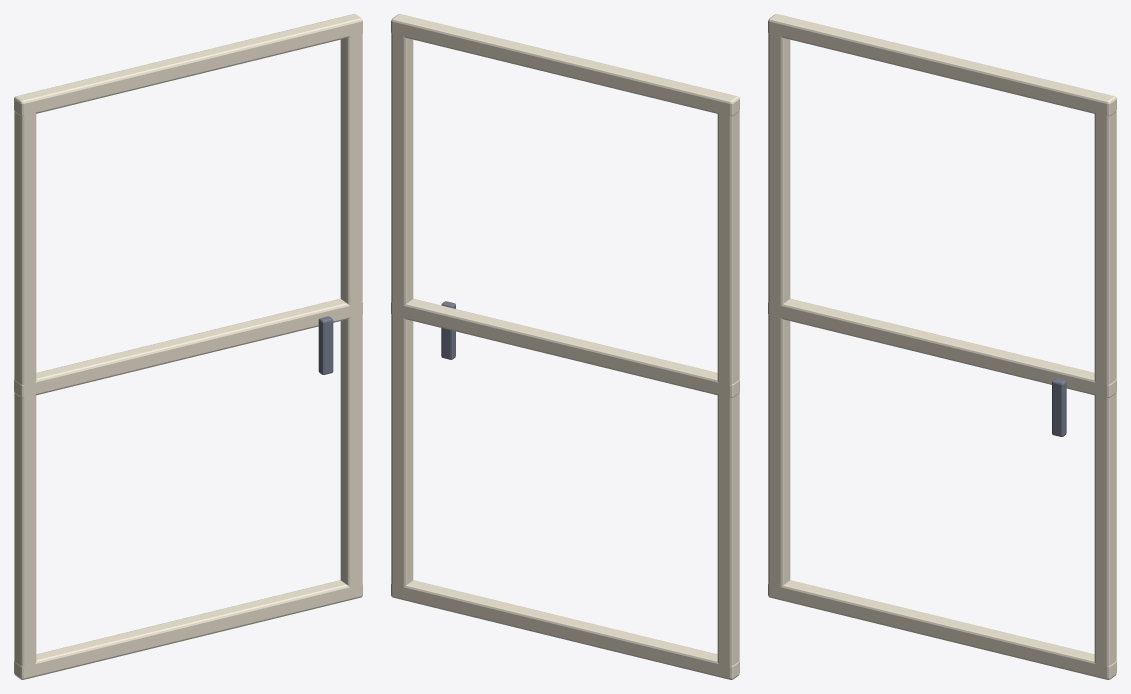
Rendered from window_leaf.glb.
3 renders of one model, left to right at view 1: azimuth 30°, elevation 25°; view 2: azimuth 150°, elevation 25°; view 3: azimuth 330°, elevation 25°, orthographic.
Parts seen in each view (by area): view 1: window_leaf_Mesh; view 2: window_leaf_Mesh; view 3: window_leaf_Mesh.
Part boxes in pixels (x1,y1,x2,y2): window_leaf_Mesh: [14, 14, 362, 679]; window_leaf_Mesh: [391, 14, 739, 679]; window_leaf_Mesh: [768, 14, 1116, 679].
Size of the model in its own units: 1.05 by 1.7 by 0.09.
